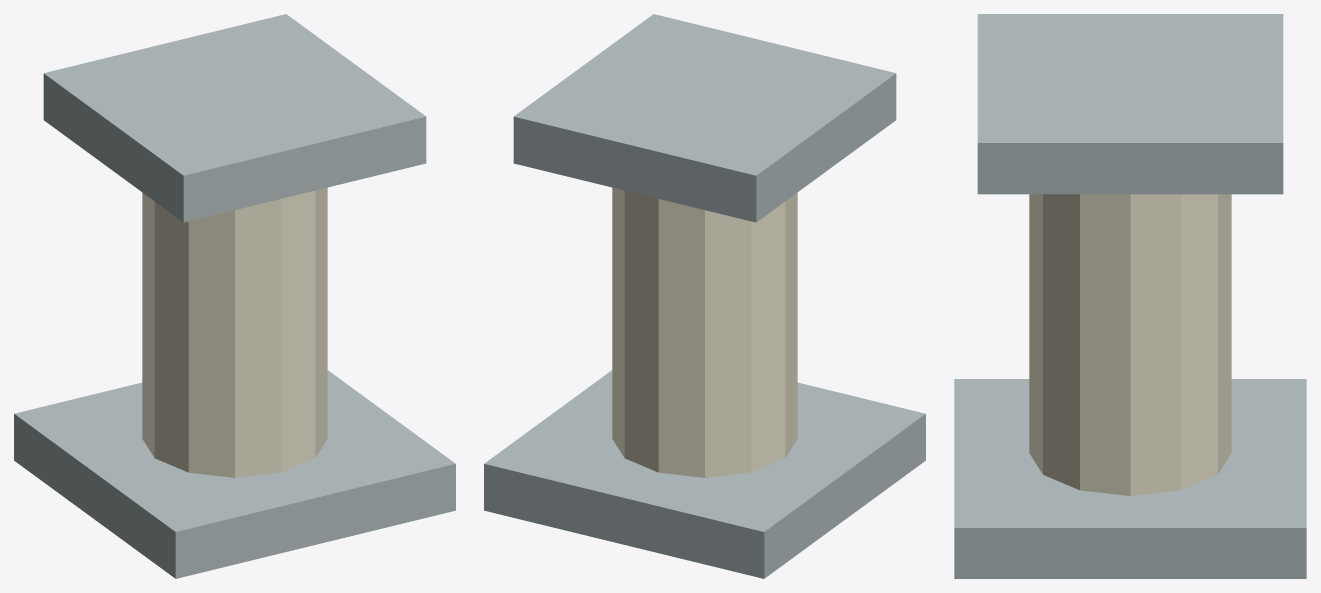
File: editor_pillar.obj
3 views of the same model, side by side, from view 1: azimuth 30°, elevation 25°; view 2: azimuth 150°, elevation 25°; view 3: azimuth 270°, elevation 25° (orthographic). The views are drawn at different scales.
Bounding box in the file's own units: 1.5 × 2 × 1.5.
Materials: 2 (2 with a texture image).
